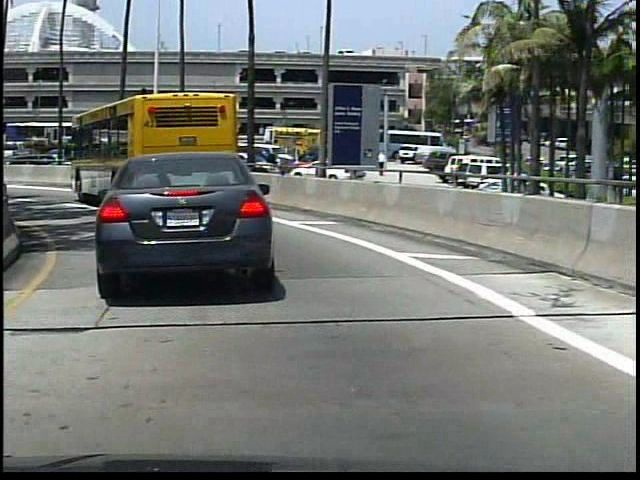person: (263, 148, 279, 180), (374, 149, 389, 179)
